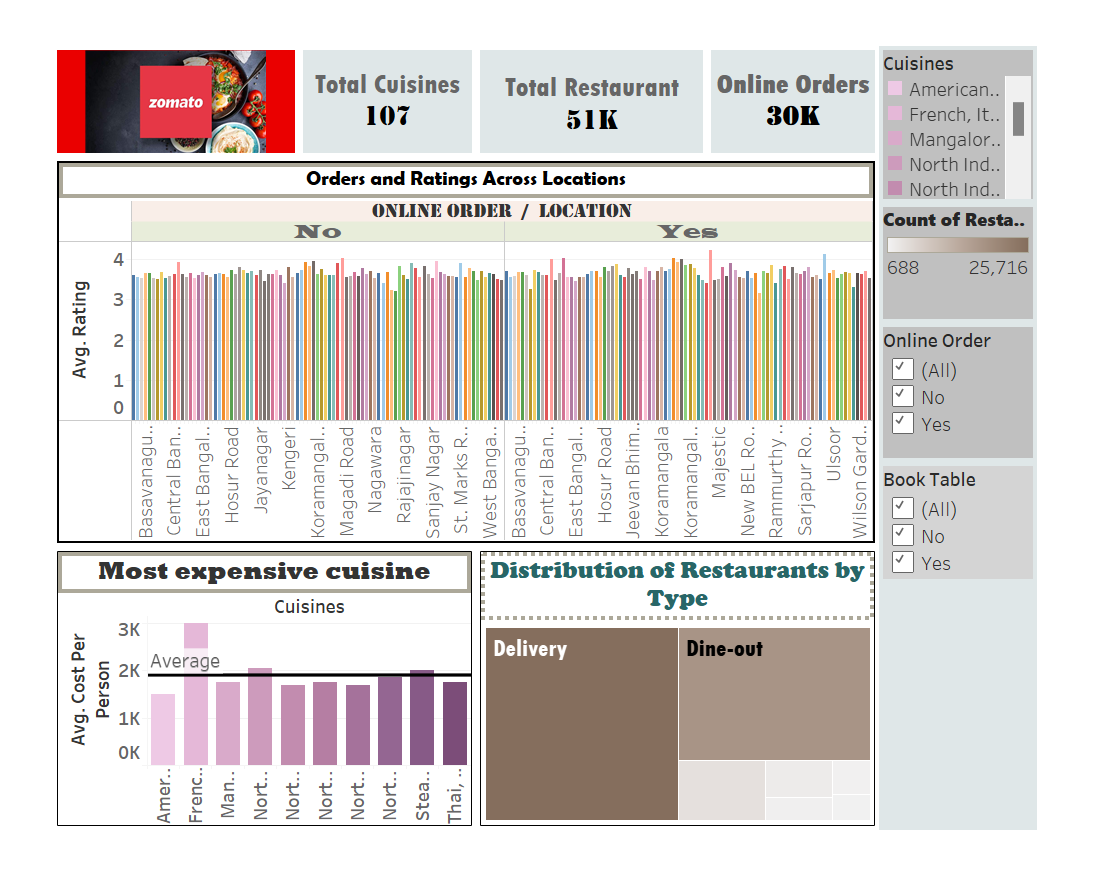

This screenshot's page, from the dashboard's own definition file:
{"tool":"tableau","page":{"name":"Dashboard 2","canvas":[1000,800],"ordinal":1},"visuals":[{"type":"image","param":"C:/Users/raisingh/Downloads/How-Zomato-Helps-Restaurants-Cut-Down-Operational-Co","box":[8,8,245.9,111]},{"type":"text","box":[253.9,8,176.8,111]},{"type":"text","box":[430.7,8,231.6,111]},{"type":"text","box":[662.3,8,171.7,111]},{"type":"legend","title":"Sheet 6","param":"[federated.1yisxas19rixzl1fxjour0m967z6].[none:cuisines:nk]","box":[834,8,158,157]},{"type":"worksheet","title":"Sheet 3","mark":"Automatic","rows":["rating"],"cols":["online_order","location"],"box":[8,119,826,390]},{"type":"legend","title":"Sheet 7","param":"[federated.1yisxas19rixzl1fxjour0m967z6].[cnt:restaurant_name:qk]","box":[834,165,158,120]},{"type":"filter","title":"Sheet 6","param":"[federated.1yisxas19rixzl1fxjour0m967z6].[none:online_order:nk]","box":[834,285,158,139]},{"type":"filter","title":"Sheet 3","param":"[federated.1yisxas19rixzl1fxjour0m967z6].[none:book_table:nk]","box":[834,424,158,121]},{"type":"worksheet","title":"Sheet 6","mark":"Automatic","rows":["cost_per_person"],"cols":["cuisines"],"box":[8,509,422.7,283]},{"type":"worksheet","title":"Sheet 7","mark":"Automatic","box":[430.7,509,403.4,283]}]}

Visuals, with their boxes in screenshot pixels (x1, y1, x2, y2), scaled from the page's 1000x800 canvas onto the 1107x882 screenshot:
image: 9, 9, 281, 131
text: 281, 9, 477, 131
text: 477, 9, 733, 131
text: 733, 9, 923, 131
"Sheet 6" legend: 923, 9, 1098, 182
"Sheet 3" worksheet: 9, 131, 923, 561
"Sheet 7" legend: 923, 182, 1098, 314
"Sheet 6" filter: 923, 314, 1098, 467
"Sheet 3" filter: 923, 467, 1098, 601
"Sheet 6" worksheet: 9, 561, 477, 873
"Sheet 7" worksheet: 477, 561, 923, 873
